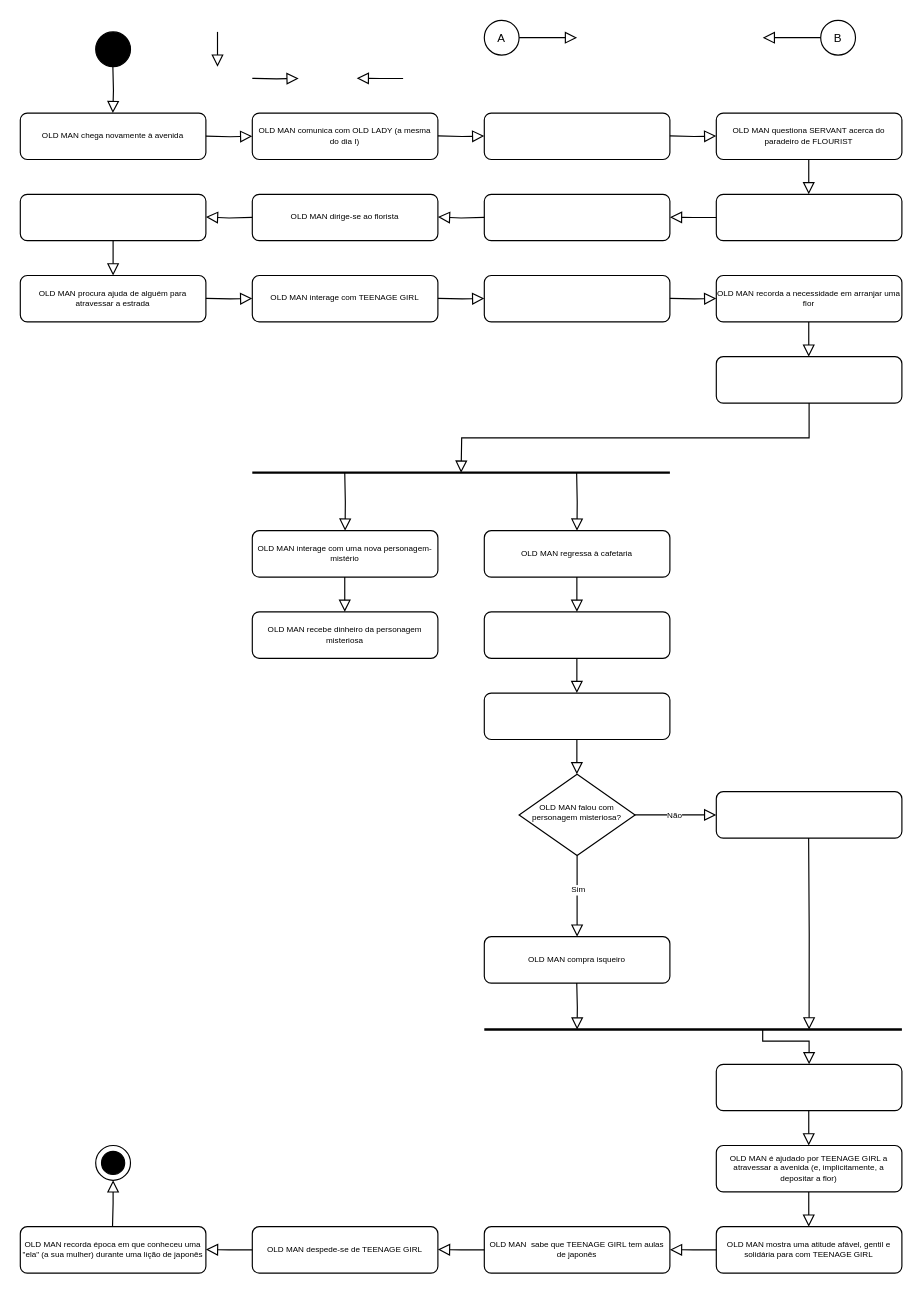
Image size: 922x1293. Some labels were removed from this diagram. The centre of each missing label's shape, as x and y in pixels:
OLD MAN adquire dinheiro emprestado de SERVANT: the point at 808,814
OLD MAN descobre que FLOURIST falecera: the point at 808,217
OLD MAN mostra-se incrédulo pela notícia: the point at 576,217
OLD MAN obtém uma sugestão de SERVANT em comprar um isqueiro com motivo floral: the point at 576,716
OLD MAN procura ajuda na cafeteria: the point at 576,136
OLD MAN procura mais uma vez por ajuda, neste caso preocupado com a flor: the point at 808,379
OLD MAN repara que a loja se encontra fechada: the point at 112,217
OLD MAN volta a ter com TEENAGE GIRL: the point at 808,1087
OLD MAN é relembrado do padecimento do FLOURIST: the point at 576,634
OLD MAN é socorrido por TEENAGE GIRL, que se oferece para o auxiliar: the point at 576,298
